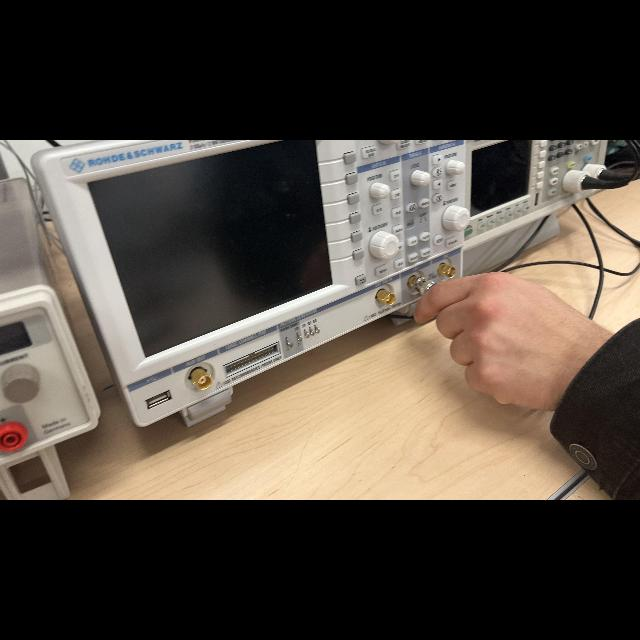Digital-Oscilloscope: (32, 140, 473, 426)
